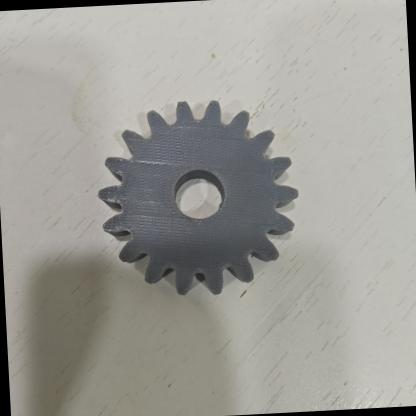gear: (93, 96, 302, 300)
